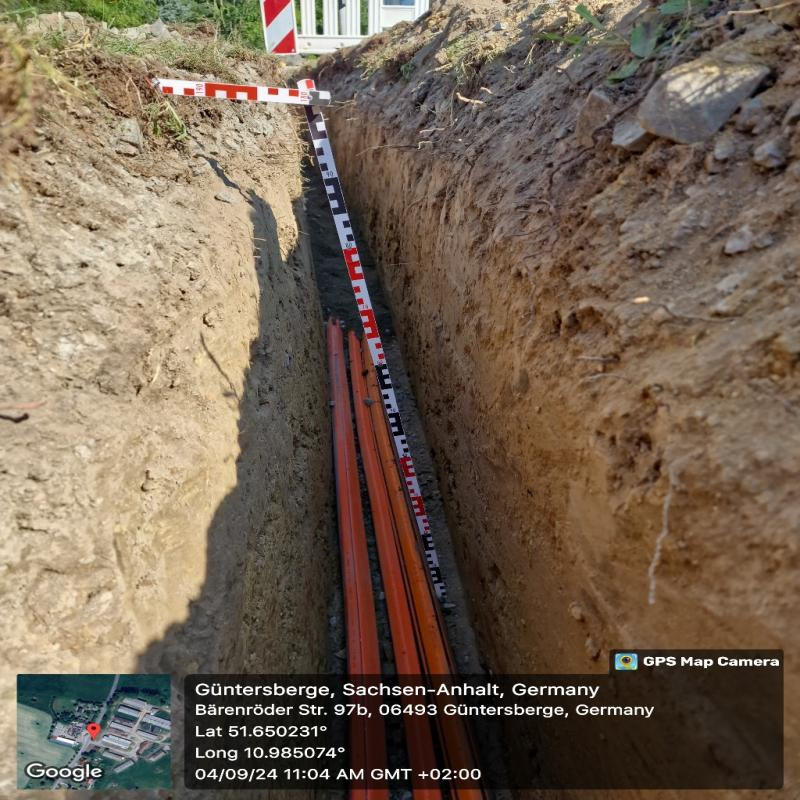Orang-Speednetrohrchen: (332, 320, 454, 688)
